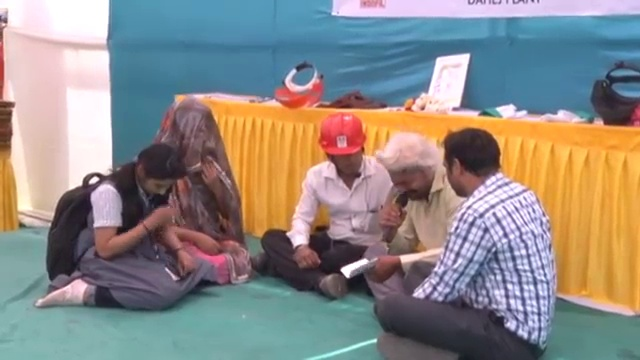helmet: (316, 111, 369, 162)
helmet_off: (439, 128, 507, 204), (162, 101, 222, 181), (382, 132, 441, 205), (124, 139, 187, 196)
helmet_on: (316, 117, 373, 184)
person: (373, 129, 558, 360), (38, 131, 219, 303), (257, 108, 399, 295), (150, 97, 251, 286), (357, 130, 466, 295)
